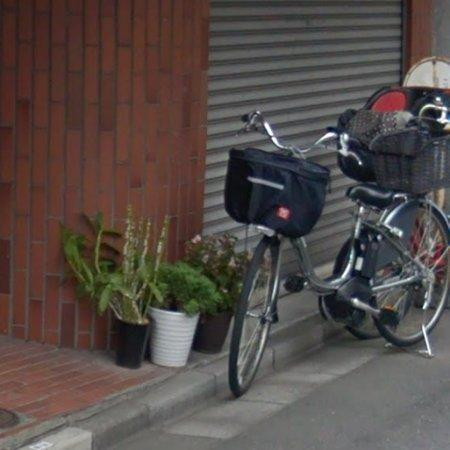bicycles: (225, 111, 450, 397)
